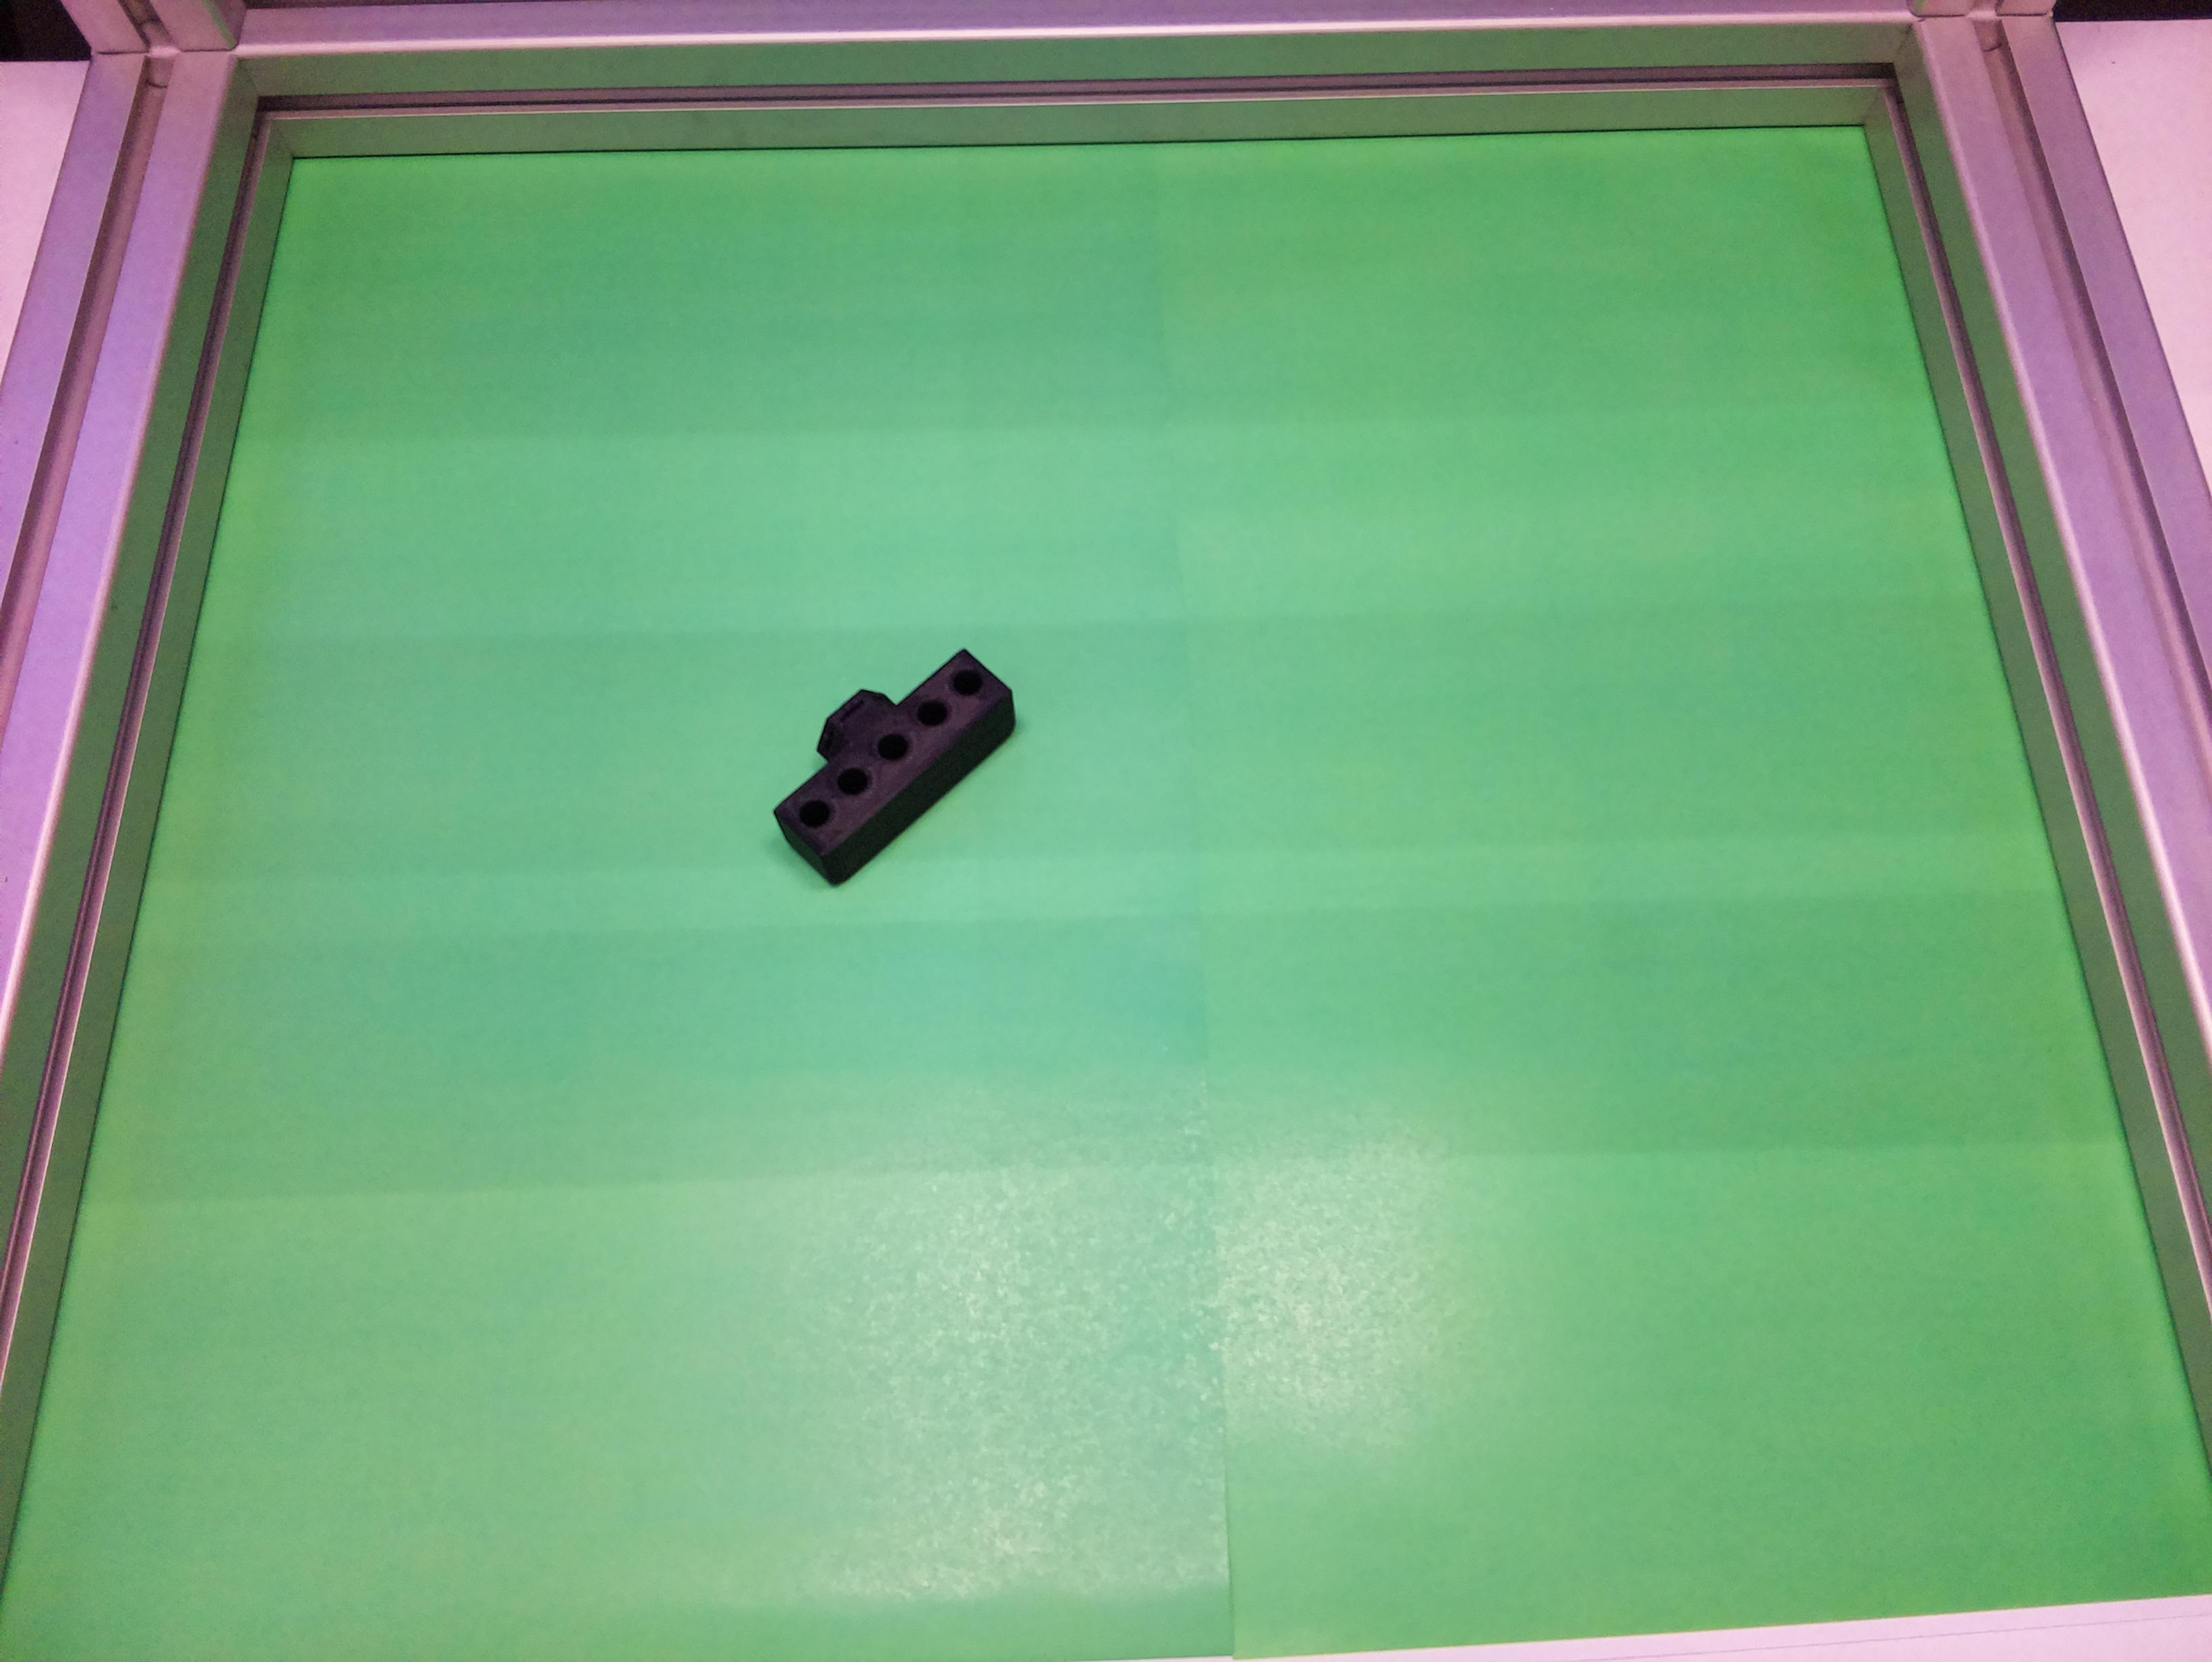bit_holder: (744, 616, 1034, 894)
